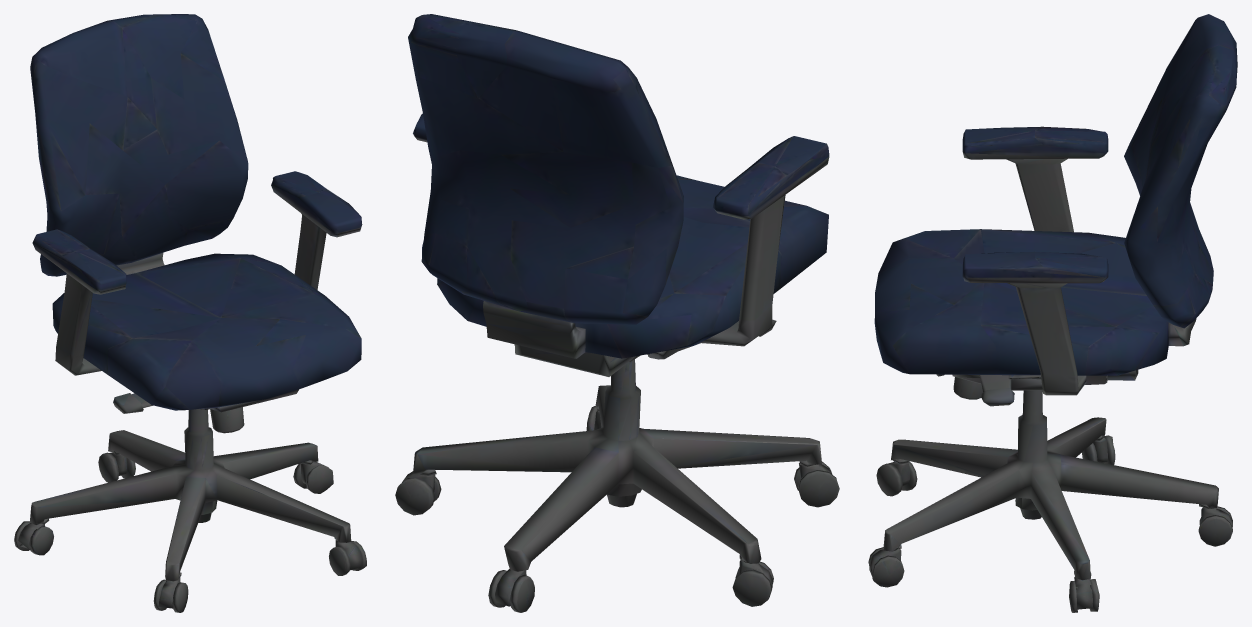
The model's file is office-chair.glb.
3 renders of one model, left to right at view 1: azimuth 30°, elevation 25°; view 2: azimuth 150°, elevation 25°; view 3: azimuth 270°, elevation 25°, orthographic. The views are drawn at different scales.
Size of the model in its own units: 0.6606 by 0.9517 by 0.6436.
1 material, 1 textured.
